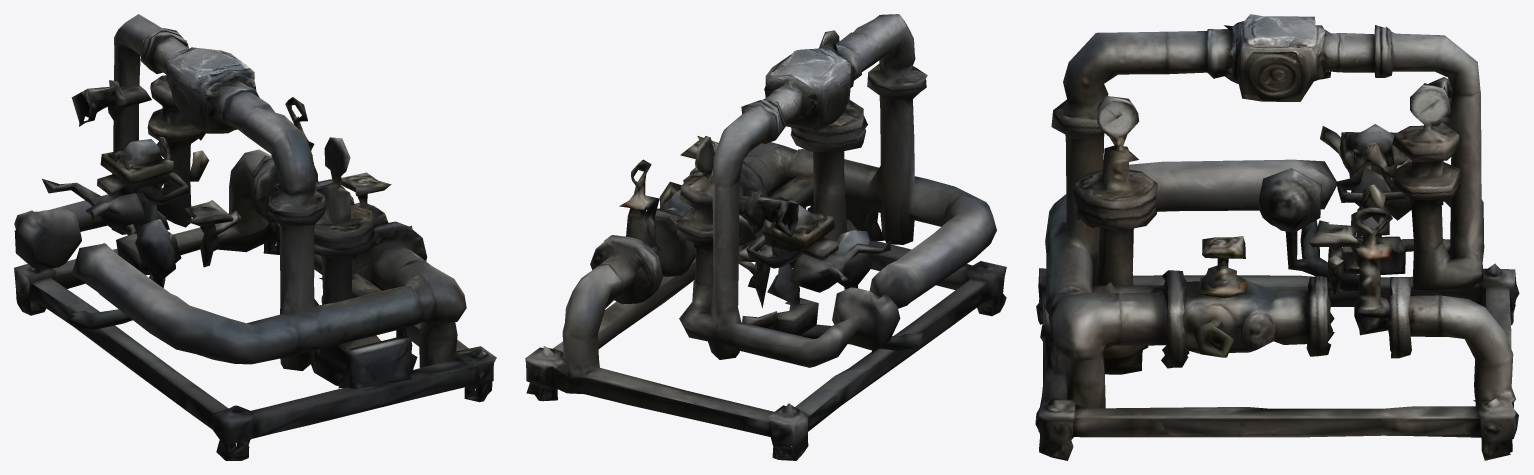
The model's file is xd_pipes.glb.
The picture shows the model from 3 angles, left to right: view 1: azimuth 30°, elevation 25°; view 2: azimuth 150°, elevation 25°; view 3: azimuth 270°, elevation 25°; orthographic projection. The views are drawn at different scales.
Parts seen in each view (by area): view 1: tripo_node_45a1ecfa-4b9b-4297-a521-9439cde8d757; view 2: tripo_node_45a1ecfa-4b9b-4297-a521-9439cde8d757; view 3: tripo_node_45a1ecfa-4b9b-4297-a521-9439cde8d757.
Part boxes in pixels (bbox=[...]): tripo_node_45a1ecfa-4b9b-4297-a521-9439cde8d757: bbox=[14, 14, 496, 460]; tripo_node_45a1ecfa-4b9b-4297-a521-9439cde8d757: bbox=[525, 14, 1006, 460]; tripo_node_45a1ecfa-4b9b-4297-a521-9439cde8d757: bbox=[1035, 14, 1519, 460].
Size of the model in its own units: 0.842 by 0.7798 by 1.
Materials: 1 (1 with a texture image).
